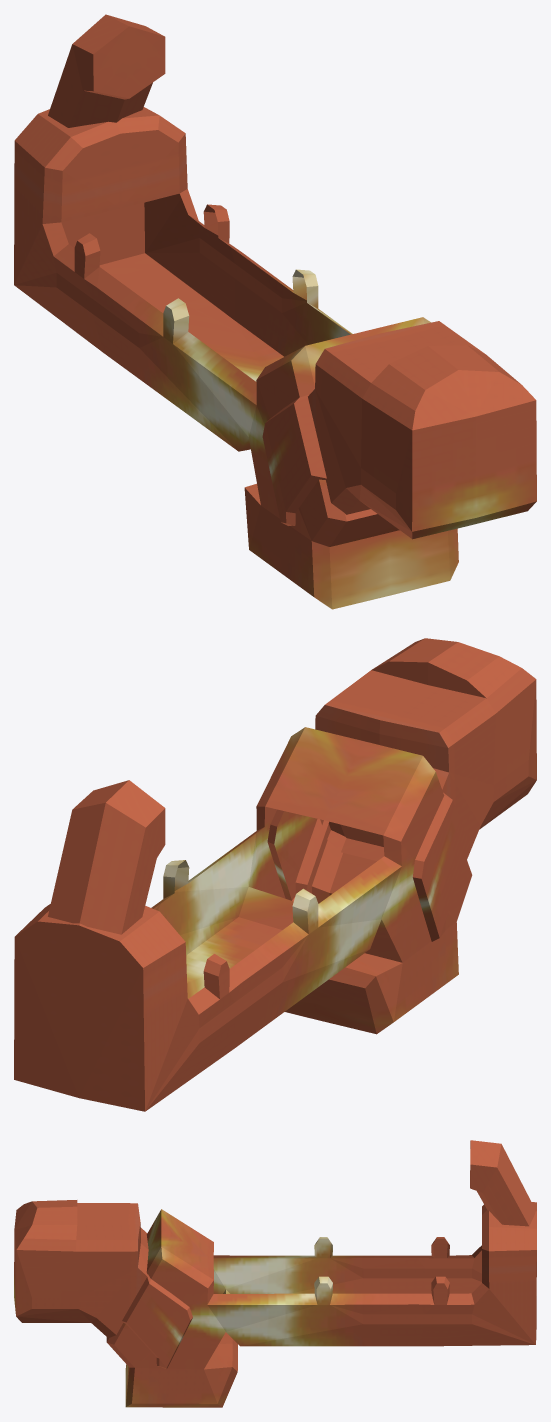
The picture shows the model from 3 angles, top to bottom: view 1: azimuth 30°, elevation 25°; view 2: azimuth 150°, elevation 25°; view 3: azimuth 270°, elevation 25°; orthographic projection. The views are drawn at different scales.
Visible parts, largest first — view 1: Object02; view 2: Object02; view 3: Object02.
Part boxes in pixels (x1,y1,x2,y2): Object02: (14, 14, 536, 609); Object02: (14, 638, 536, 1111); Object02: (14, 1140, 536, 1407).
Bounding box in the file's own units: 7.51 × 32.39 × 17.
